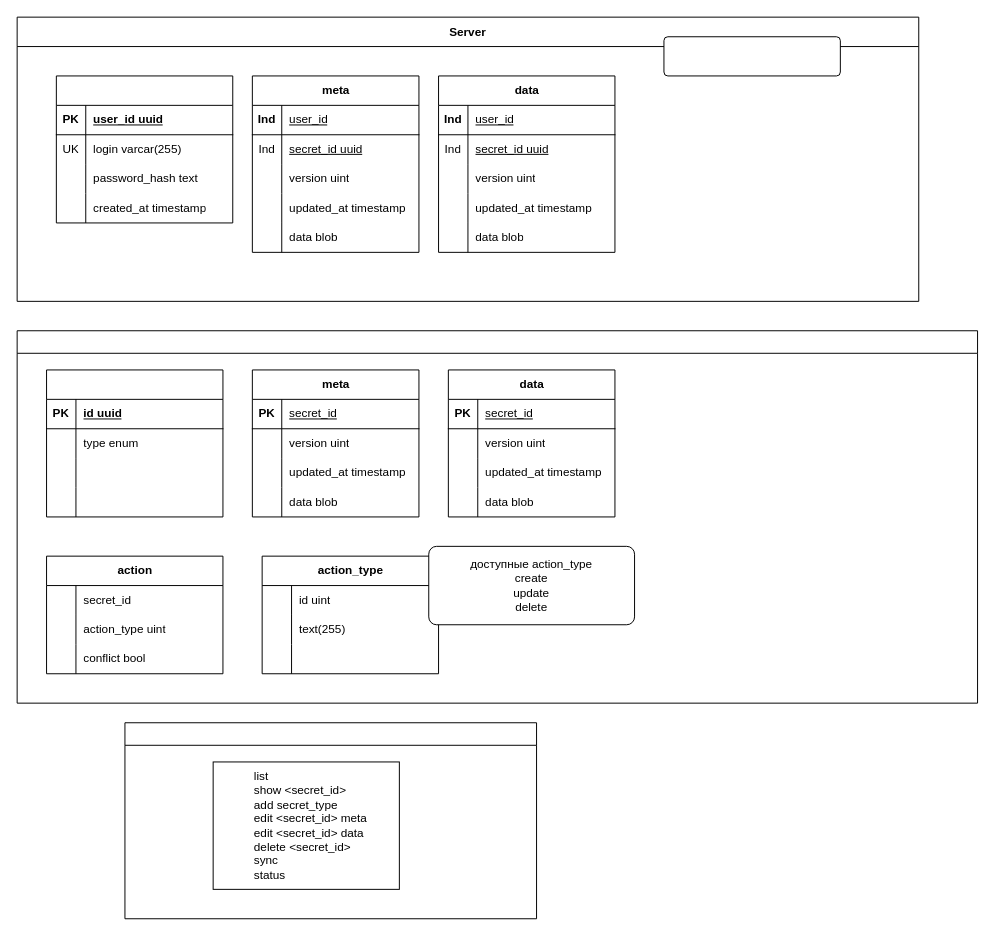
Some shapes in this 995 by 936 pixel diagram are drawn without their labels. The shapes that lost their labels are listed below. From the top down, each one's box as (x1, y1, x2, y2) in pixels, then its label:
(663, 36, 840, 76): сервер создает version
(55, 75, 233, 223): users
(46, 369, 223, 517): secrets
(16, 330, 978, 703): Client
(124, 722, 537, 919): client cmd
